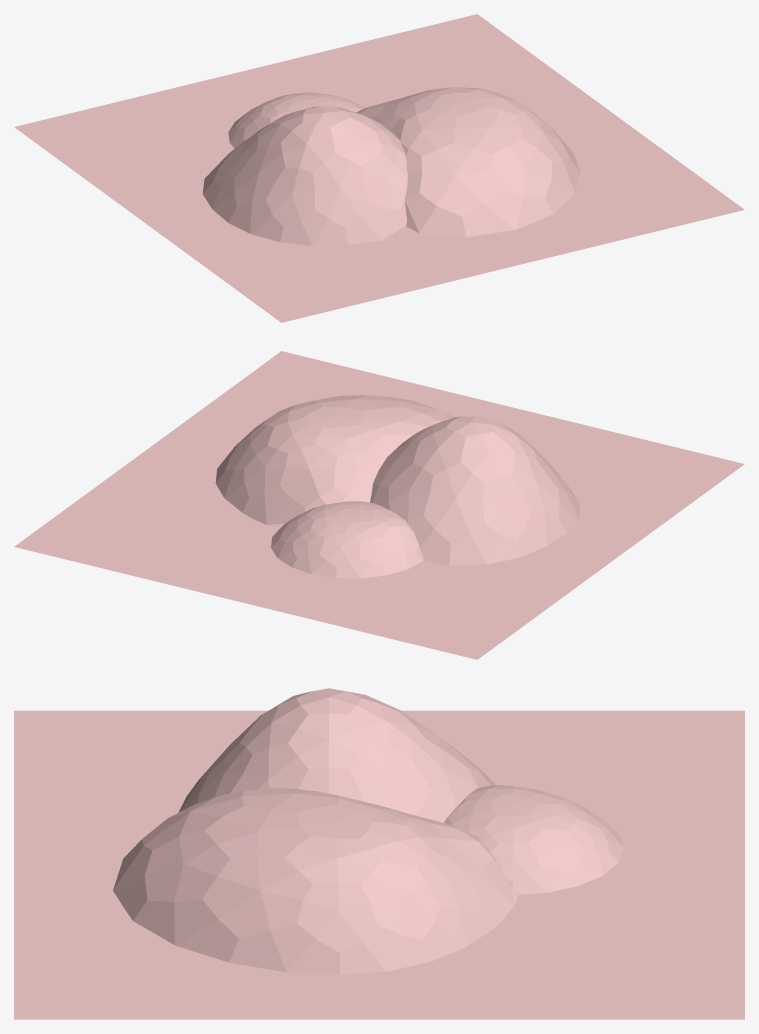
The model's file is Ground_Meat.fbx.
The picture shows the model from 3 angles, top to bottom: view 1: azimuth 30°, elevation 25°; view 2: azimuth 150°, elevation 25°; view 3: azimuth 270°, elevation 25°; orthographic projection. The views are drawn at different scales.
Parts seen in each view (by area): view 1: Ground Meat Plane; view 2: Ground Meat Plane; view 3: Ground Meat Plane.
Part boxes in pixels (x1,y1,x2,y2): Ground Meat Plane: (14,14,744,322); Ground Meat Plane: (14,351,744,659); Ground Meat Plane: (14,688,744,1019).
Size of the model in its own units: 0.5 by 0.0926 by 0.5.
